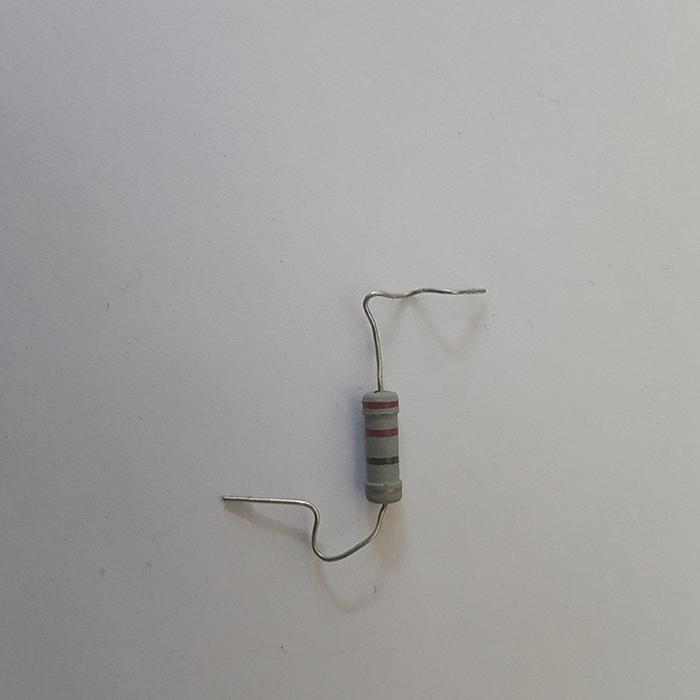resistor: (359, 386, 404, 504)
